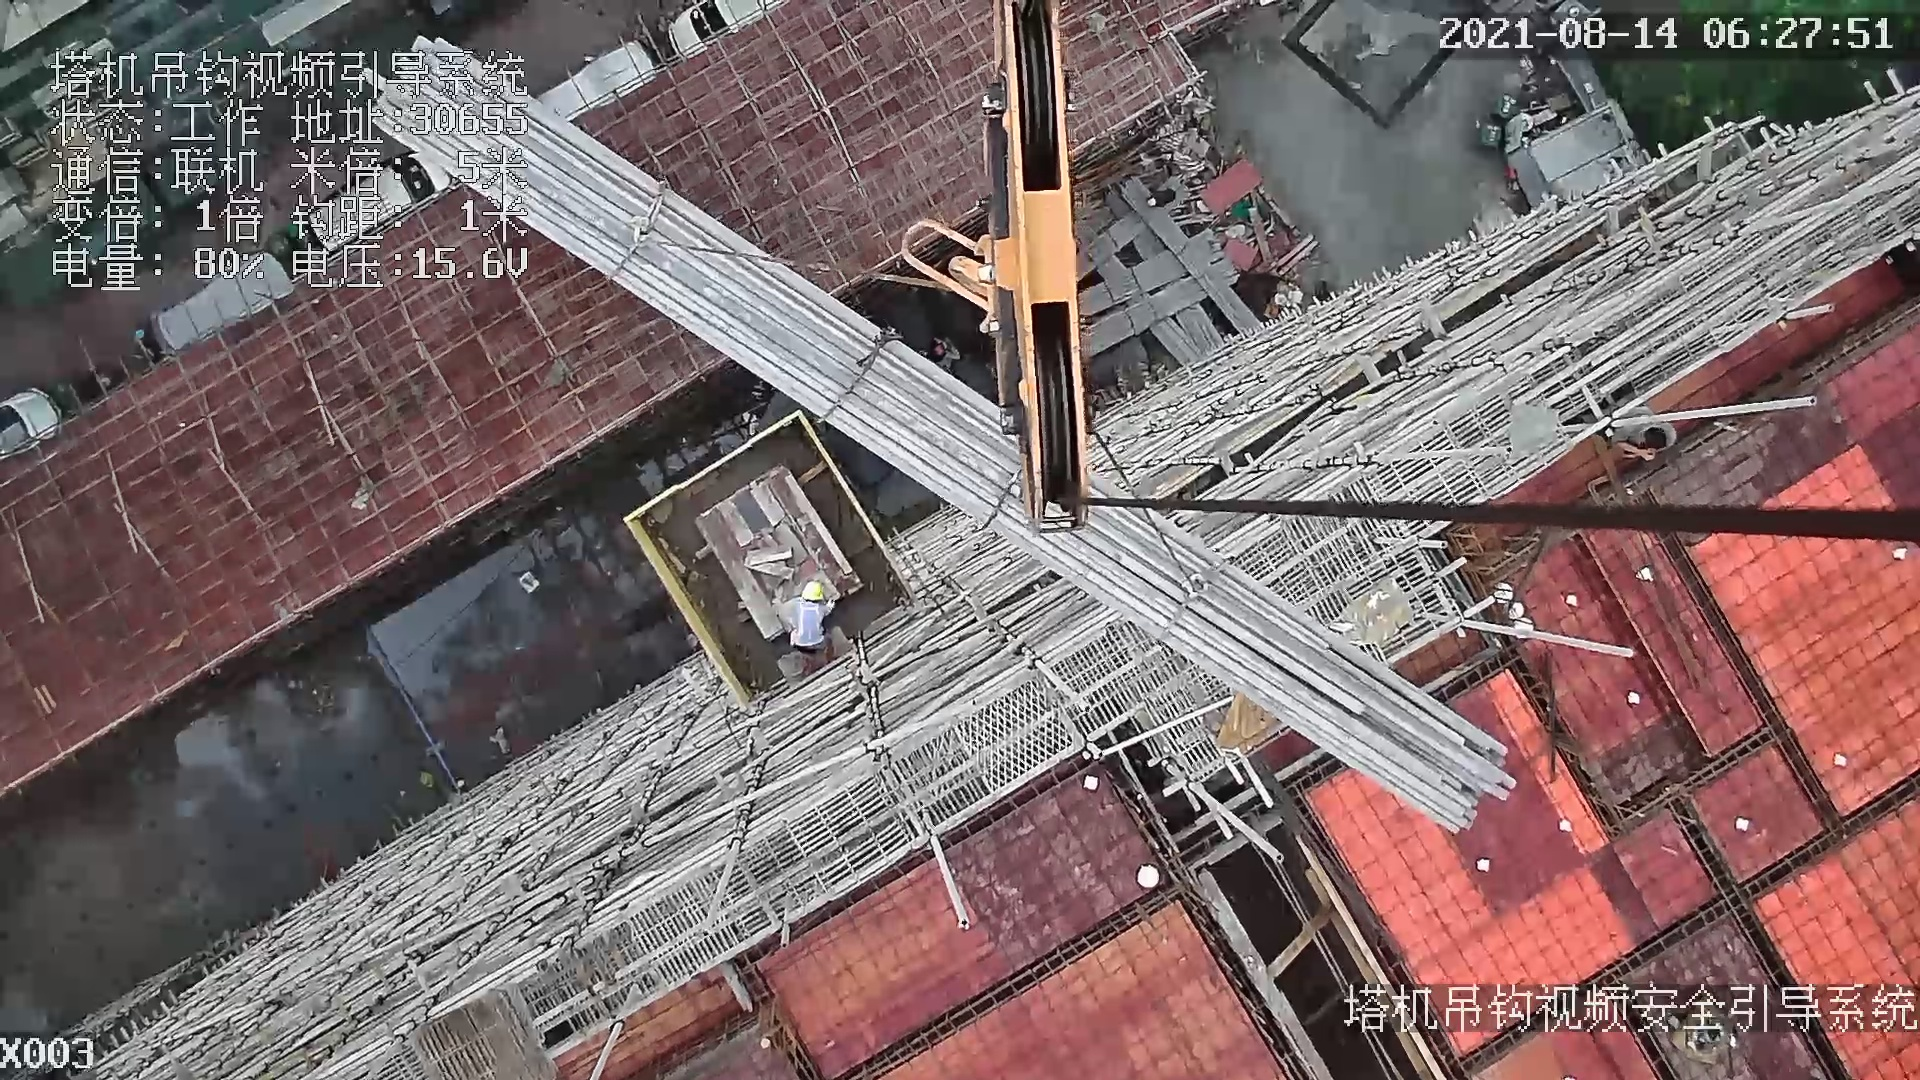helmet: (797, 581, 826, 604)
hook: (981, 1, 1093, 537)
person: (779, 579, 836, 651), (1617, 414, 1683, 472)
